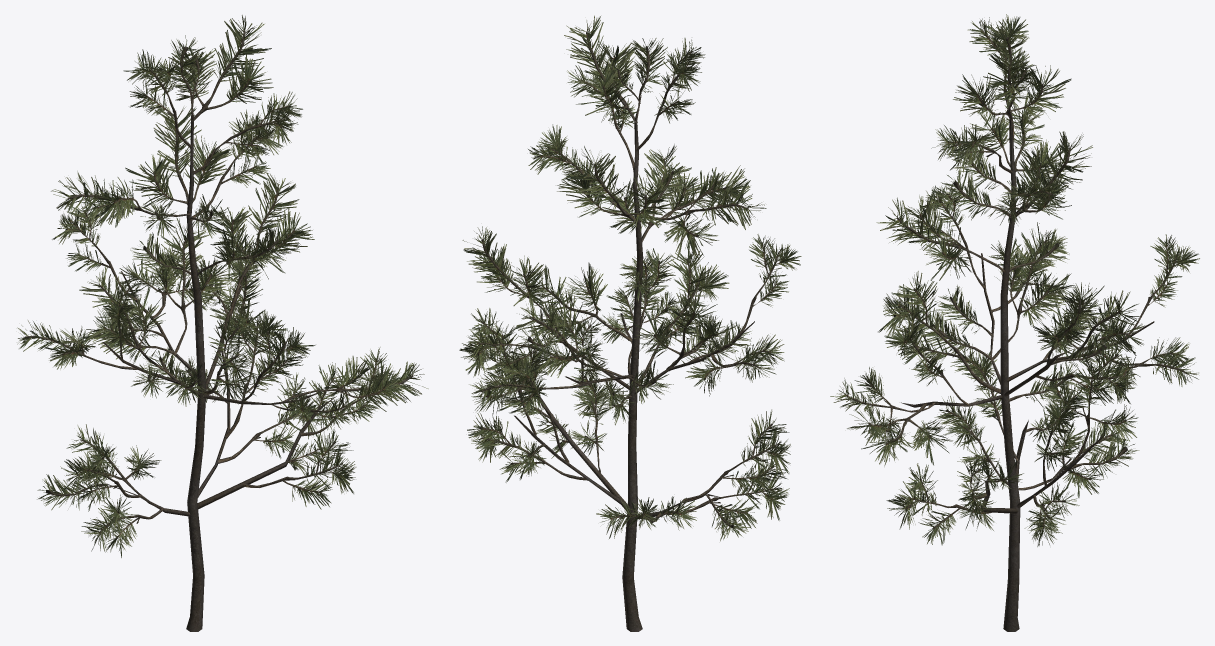
The model's file is pine-a.glb.
3 renders of one model, left to right at view 1: azimuth 30°, elevation 25°; view 2: azimuth 150°, elevation 25°; view 3: azimuth 270°, elevation 25°, orthographic.
Visible parts, largest first — view 1: pine_sapling_small_a; view 2: pine_sapling_small_a; view 3: pine_sapling_small_a.
Boxes of the visible parts, bbox=[...] form: pine_sapling_small_a: bbox=[17, 15, 428, 631]; pine_sapling_small_a: bbox=[459, 15, 801, 631]; pine_sapling_small_a: bbox=[830, 14, 1199, 631].
Size of the model in its own units: 0.7877 by 1.3 by 0.7266.
2 materials, 2 textured.
